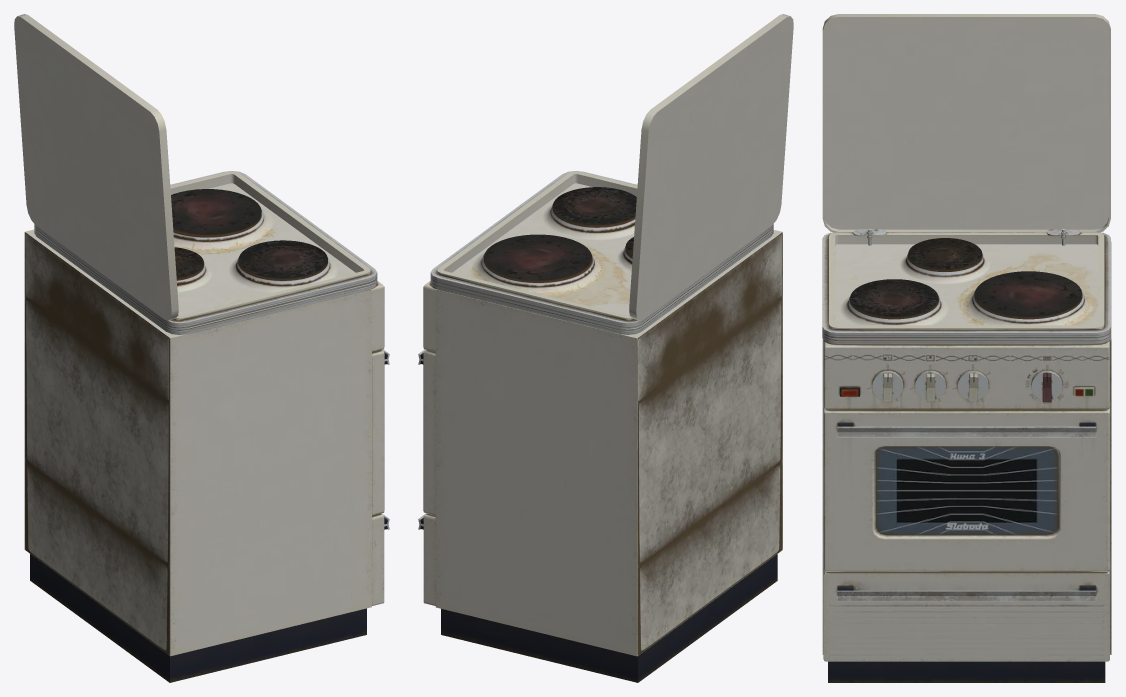
File: electric-stove.glb
3 views of the same model, side by side, from view 1: azimuth 30°, elevation 25°; view 2: azimuth 150°, elevation 25°; view 3: azimuth 270°, elevation 25° (orthographic).
Visible parts, largest first — view 1: Cook_Stove_0; view 2: Cook_Stove_0; view 3: Cook_Stove_0.
Boxes of the visible parts, x1,y1,x2,y2 form: Cook_Stove_0: (14, 14, 389, 682); Cook_Stove_0: (418, 14, 793, 682); Cook_Stove_0: (822, 14, 1111, 682).
Size of the model in its own units: 0.6001 by 1.37 by 0.6335.
Materials: 1 (1 with a texture image).
